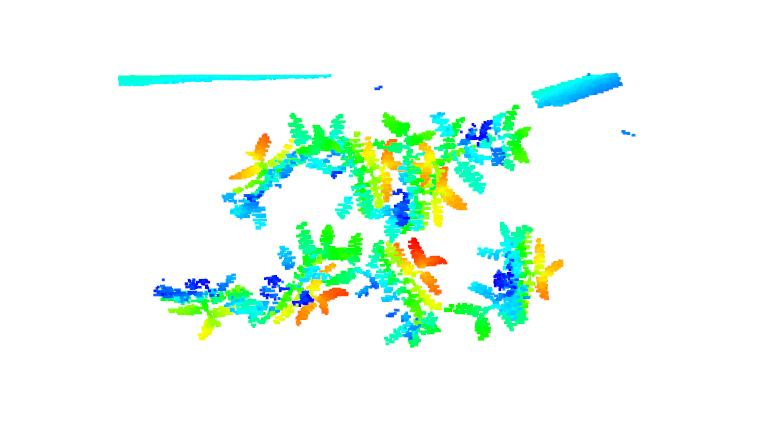chickpea: (444, 221, 567, 350), (258, 223, 368, 329), (379, 102, 469, 223), (438, 96, 543, 196), (311, 110, 395, 229), (369, 235, 454, 348), (214, 130, 310, 230), (153, 273, 261, 345)
